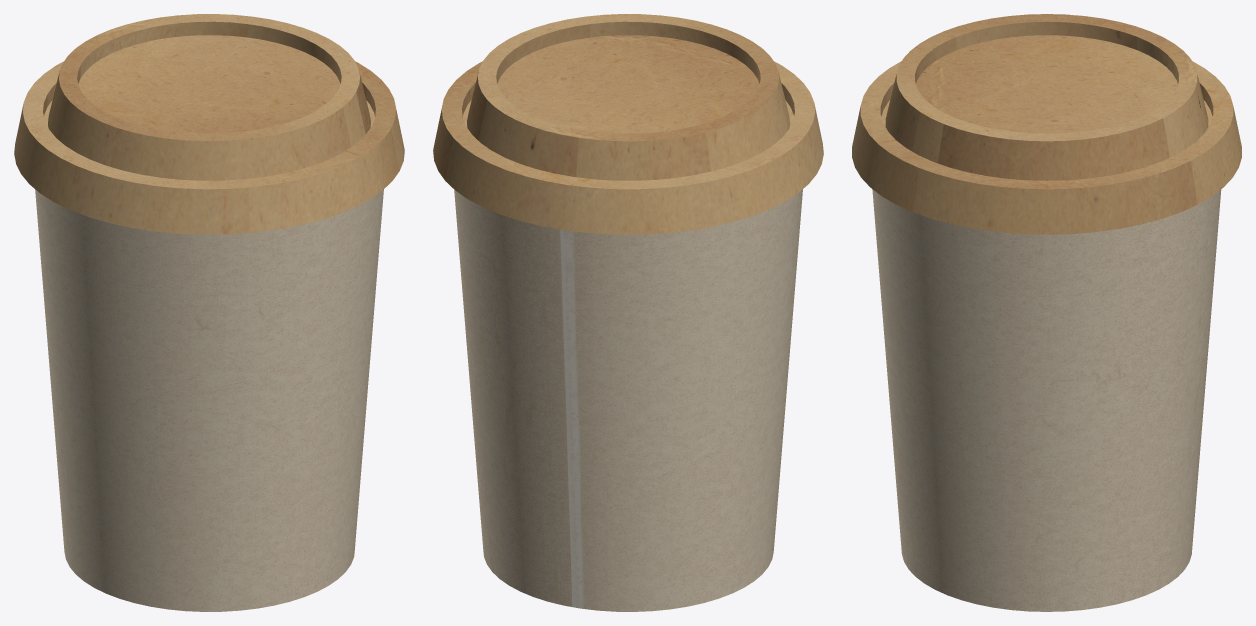
Rendered from Cup.fbx.
The picture shows the model from 3 angles, left to right: view 1: azimuth 30°, elevation 25°; view 2: azimuth 150°, elevation 25°; view 3: azimuth 270°, elevation 25°; orthographic projection.
Parts seen in each view (by area): view 1: Cup, Cap; view 2: Cup, Cap; view 3: Cup, Cap.
Boxes of the visible parts, left/top/right/bottom form: Cup: left=35, top=189, right=383, bottom=611; Cap: left=14, top=14, right=404, bottom=234; Cup: left=454, top=189, right=802, bottom=611; Cap: left=433, top=14, right=823, bottom=234; Cup: left=872, top=189, right=1221, bottom=611; Cap: left=852, top=14, right=1241, bottom=234.
Size of the model in its own units: 140 by 187 by 140.
2 materials, 2 textured.
